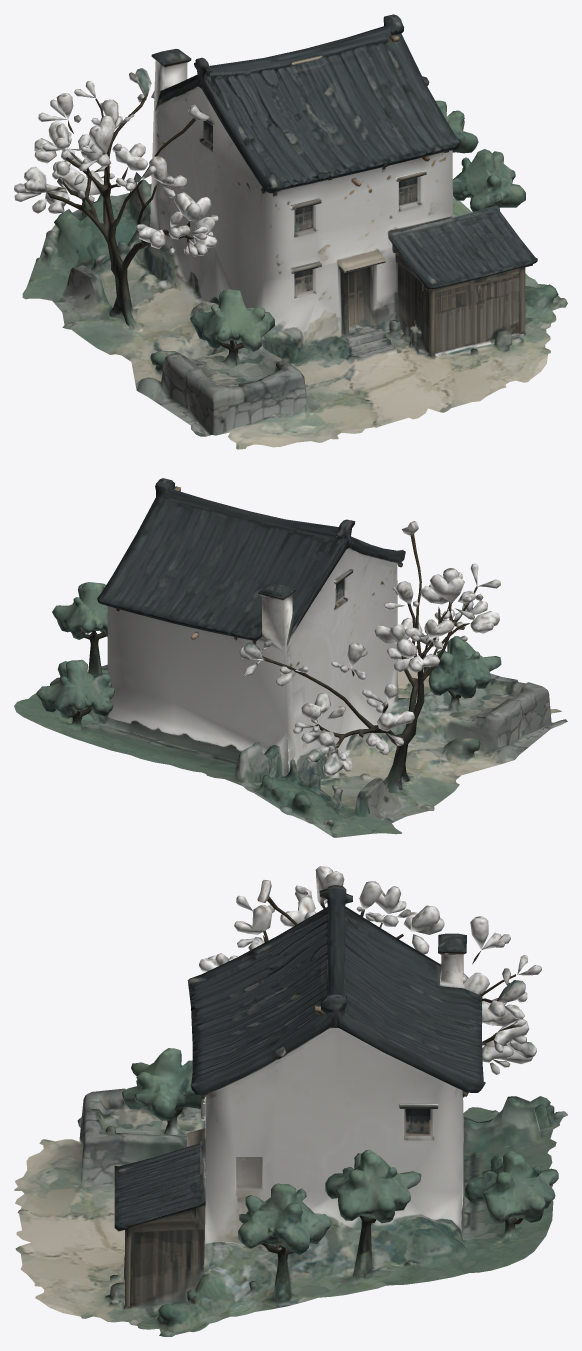
Rendered from house1.glb.
The picture shows the model from 3 angles, top to bottom: view 1: azimuth 30°, elevation 25°; view 2: azimuth 150°, elevation 25°; view 3: azimuth 270°, elevation 25°; orthographic projection. The views are drawn at different scales.
Parts seen in each view (by area): view 1: tripo_node_a0aef7c8-1edb-442e-a8d6-ff84d43f2074; view 2: tripo_node_a0aef7c8-1edb-442e-a8d6-ff84d43f2074; view 3: tripo_node_a0aef7c8-1edb-442e-a8d6-ff84d43f2074.
Boxes of the visible parts, bbox=[...] form: tripo_node_a0aef7c8-1edb-442e-a8d6-ff84d43f2074: bbox=[14, 14, 567, 449]; tripo_node_a0aef7c8-1edb-442e-a8d6-ff84d43f2074: bbox=[14, 478, 567, 837]; tripo_node_a0aef7c8-1edb-442e-a8d6-ff84d43f2074: bbox=[14, 866, 567, 1336].
Bounding box in the file's own units: 0.9985 × 0.6128 × 0.9995.
1 material, 1 textured.
